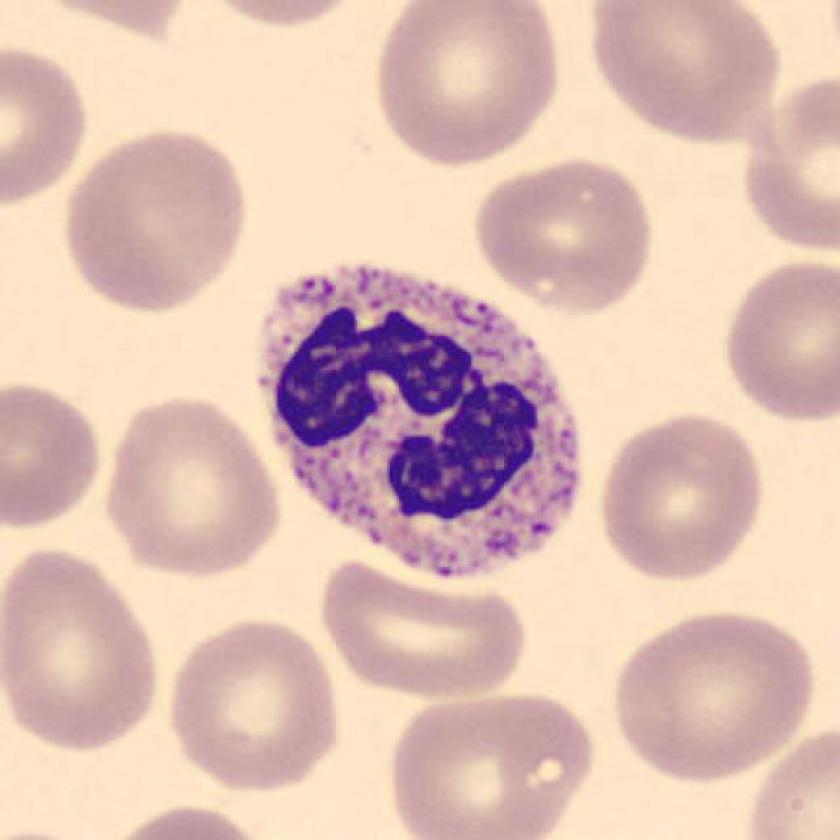neutrophil: (260, 269, 577, 576)
